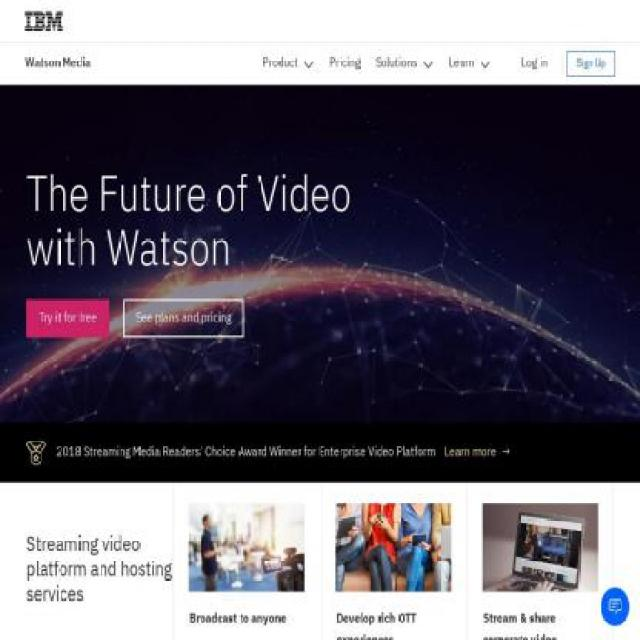button: (173, 482, 321, 640), (320, 482, 468, 640), (467, 482, 615, 640), (122, 299, 244, 338), (26, 299, 109, 338), (24, 42, 96, 84), (375, 42, 434, 84), (262, 42, 315, 84), (448, 42, 490, 84), (25, 0, 63, 42), (444, 441, 510, 464), (329, 42, 360, 84), (567, 51, 615, 77), (600, 587, 631, 627), (522, 42, 548, 84)
